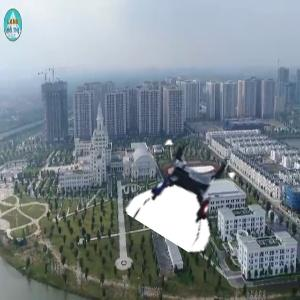drone: (136, 142, 237, 243)
